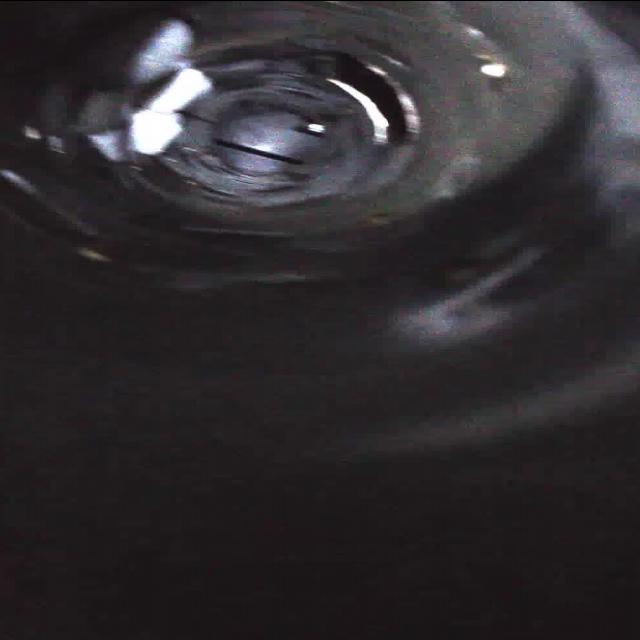crack: (262, 179, 348, 215), (150, 143, 232, 180), (185, 180, 253, 218), (197, 58, 268, 94), (276, 66, 332, 102), (166, 103, 222, 133)
hole: (325, 46, 425, 142)
